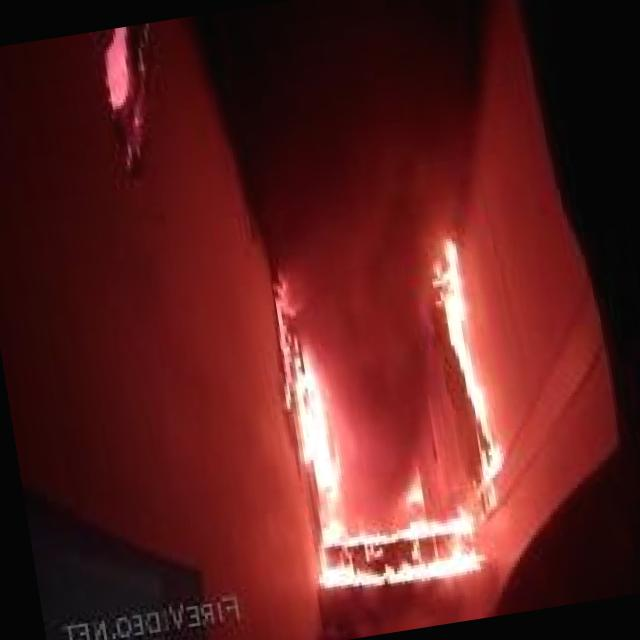fire: (235, 230, 528, 620)
